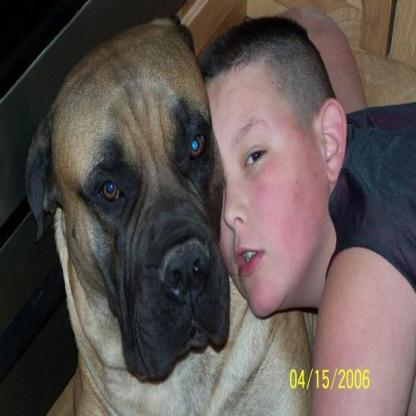bull_mastiff: (22, 3, 322, 413)
